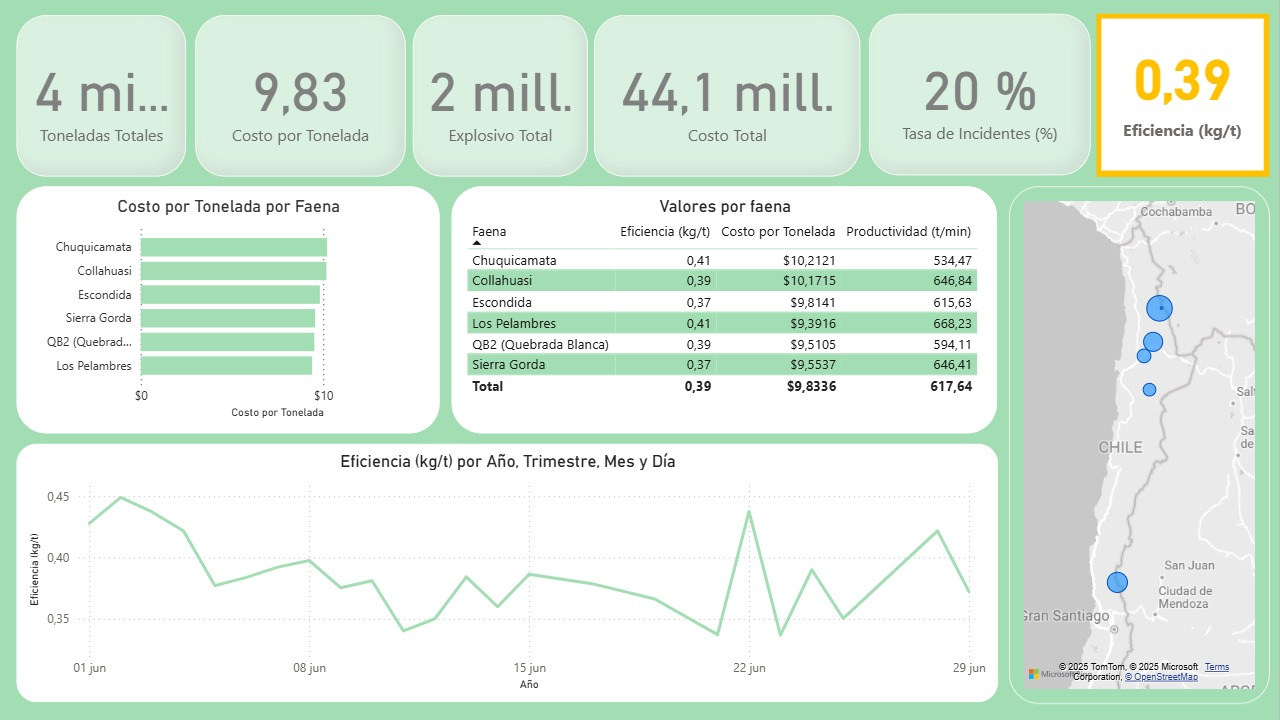

The dashboard page shown, as its layout file describes it:
{"tool":"powerbi","page":{"name":"ENAEX","canvas":[1280,720],"ordinal":0},"visuals":[{"type":"cardVisual","fields":{"Data":["Fact_Operaciones1.Eficiencia (kg/t)"]},"box":[1097.1,14.3,172.9,162.9],"z":0},{"type":"card","fields":{"Values":["Fact_Operaciones1.Tasa de Incidentes (%)"]},"box":[870,14.3,221.4,161.4],"z":1000},{"type":"card","fields":{"Values":["Fact_Operaciones1.Costo Total"]},"box":[595.5,14.7,266.6,161.4],"z":2000},{"type":"card","fields":{"Values":["Fact_Operaciones1.Explosivo Total"]},"box":[413.3,14.7,174.9,161.4],"z":5000},{"type":"card","fields":{"Values":["Fact_Operaciones1.Costo por Tonelada"]},"box":[195.7,14.7,210.3,161.4],"z":5500},{"type":"tableEx","title":"Valores por faena","fields":{"Values":["Dim_Faena3.Faena","Fact_Operaciones1.Eficiencia (kg/t)","Fact_Operaciones1.Costo por Tonelada","Fact_Operaciones1.Productividad (t/min)"]},"box":[452.9,185.7,545.7,247.1],"z":6000},{"type":"clusteredBarChart","fields":{"Category":["Dim_Faena3.Faena"],"Y":["Fact_Operaciones1.Costo por Tonelada"]},"box":[17.1,185.7,422.9,247.1],"z":7000},{"type":"card","fields":{"Values":["Fact_Operaciones1.Toneladas Totales"]},"box":[17.1,14.7,170,161.4],"z":7500},{"type":"lineChart","fields":{"Category":["Fact_Operaciones1.Fecha.Variación.Jerarquía de fechas.Año","Fact_Operaciones1.Fecha.Variación.Jerarquía de fechas.Trimestre","Fact_Operaciones1.Fecha.Variación.Jerarquía de fechas.Mes","Fact_Operaciones1.Fecha.Variación.Jerarquía de fechas.Día"],"Y":["Fact_Operaciones1.Eficiencia (kg/t)"]},"box":[17.1,444.3,981.4,258.6],"z":8000},{"type":"map","title":"Toneladas Totales","fields":{"Y":["Dim_Faena3.Latitud"],"X":["Dim_Faena3.Longitud"],"Size":["Fact_Operaciones1.Toneladas Totales"]},"box":[1009.8,185.8,260.6,517.6],"z":9000}]}

Visuals, with their boxes in screenshot pixels (x1, y1, x2, y2), scaled from the page's 1280x720 canvas onto the 1280x720 screenshot:
cardVisual - Fact_Operaciones1.Eficiencia (kg/t): [x1=1097, y1=14, x2=1270, y2=177]
card - Fact_Operaciones1.Tasa de Incidentes (%): [x1=870, y1=14, x2=1091, y2=176]
card - Fact_Operaciones1.Costo Total: [x1=596, y1=15, x2=862, y2=176]
card - Fact_Operaciones1.Explosivo Total: [x1=413, y1=15, x2=588, y2=176]
card - Fact_Operaciones1.Costo por Tonelada: [x1=196, y1=15, x2=406, y2=176]
"Valores por faena" tableEx: [x1=453, y1=186, x2=999, y2=433]
clusteredBarChart - Dim_Faena3.Faena x Fact_Operaciones1.Costo por Tonelada: [x1=17, y1=186, x2=440, y2=433]
card - Fact_Operaciones1.Toneladas Totales: [x1=17, y1=15, x2=187, y2=176]
lineChart - Fact_Operaciones1.Fecha.Variación.Jerarquía de fechas.Año x Fact_Operaciones1.Fecha.Variación.Jerarquía de fechas.Trimestre: [x1=17, y1=444, x2=998, y2=703]
"Toneladas Totales" map: [x1=1010, y1=186, x2=1270, y2=703]
